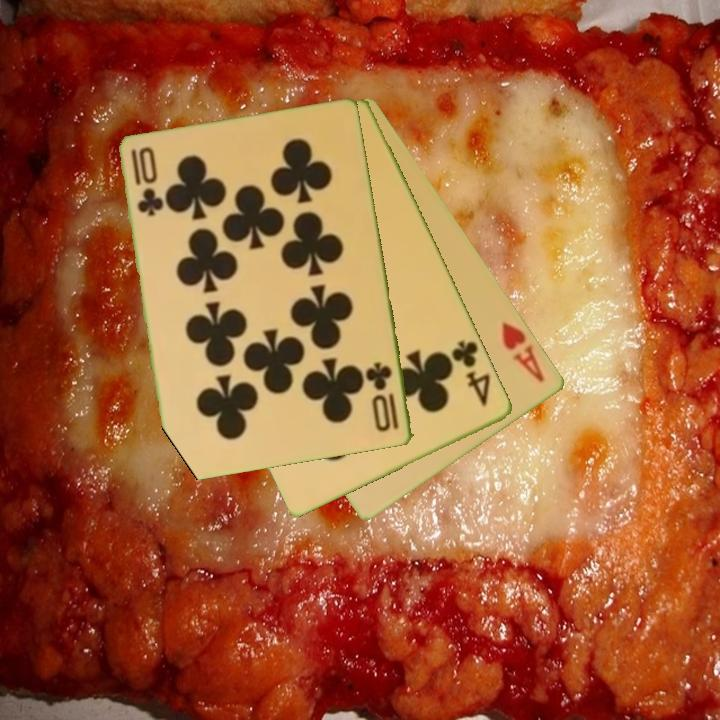10c: (364, 359, 402, 435), (128, 146, 163, 220)
4c: (448, 337, 494, 409)
Ah: (498, 318, 549, 385)
